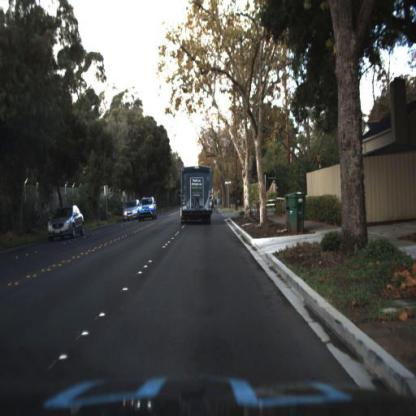car: (48, 206, 88, 246), (135, 196, 159, 223), (121, 197, 143, 223), (139, 196, 158, 221)
truck: (179, 163, 215, 231)
